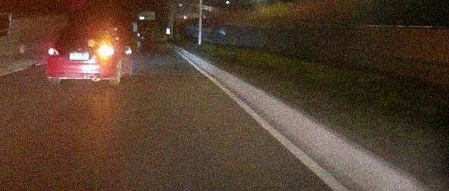L_light: (48, 47, 60, 56)
R_light: (98, 46, 114, 56)
T_light: (85, 27, 93, 30)
night-right: (46, 21, 117, 88)
